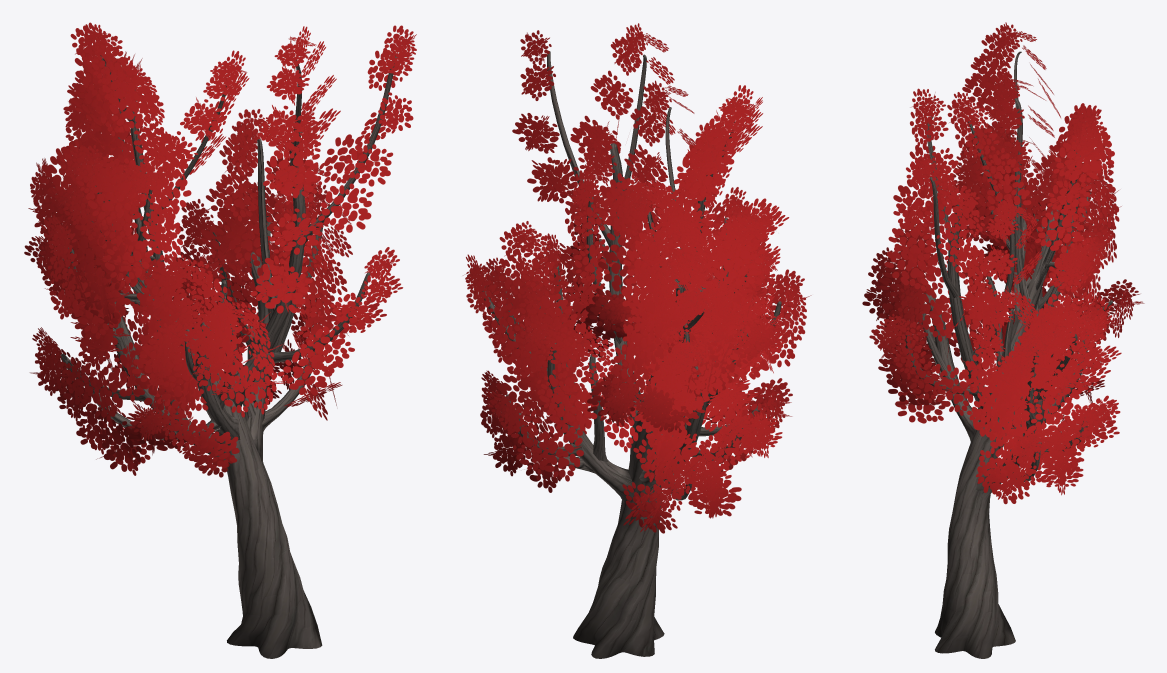
Rendered from cactus_b.glb.
3 renders of one model, left to right at view 1: azimuth 30°, elevation 25°; view 2: azimuth 150°, elevation 25°; view 3: azimuth 270°, elevation 25°, orthographic. The views are drawn at different scales.
Parts seen in each view (by area): view 1: TwistedTree_2; view 2: TwistedTree_2; view 3: TwistedTree_2.
Part boxes in pixels (<box>): TwistedTree_2: <box>24,22,416,658</box>; TwistedTree_2: <box>463,23,811,658</box>; TwistedTree_2: <box>862,22,1144,658</box>.
Bounding box in the file's own units: 10.56 × 18.95 × 9.2.
Materials: 2 (2 with a texture image).
